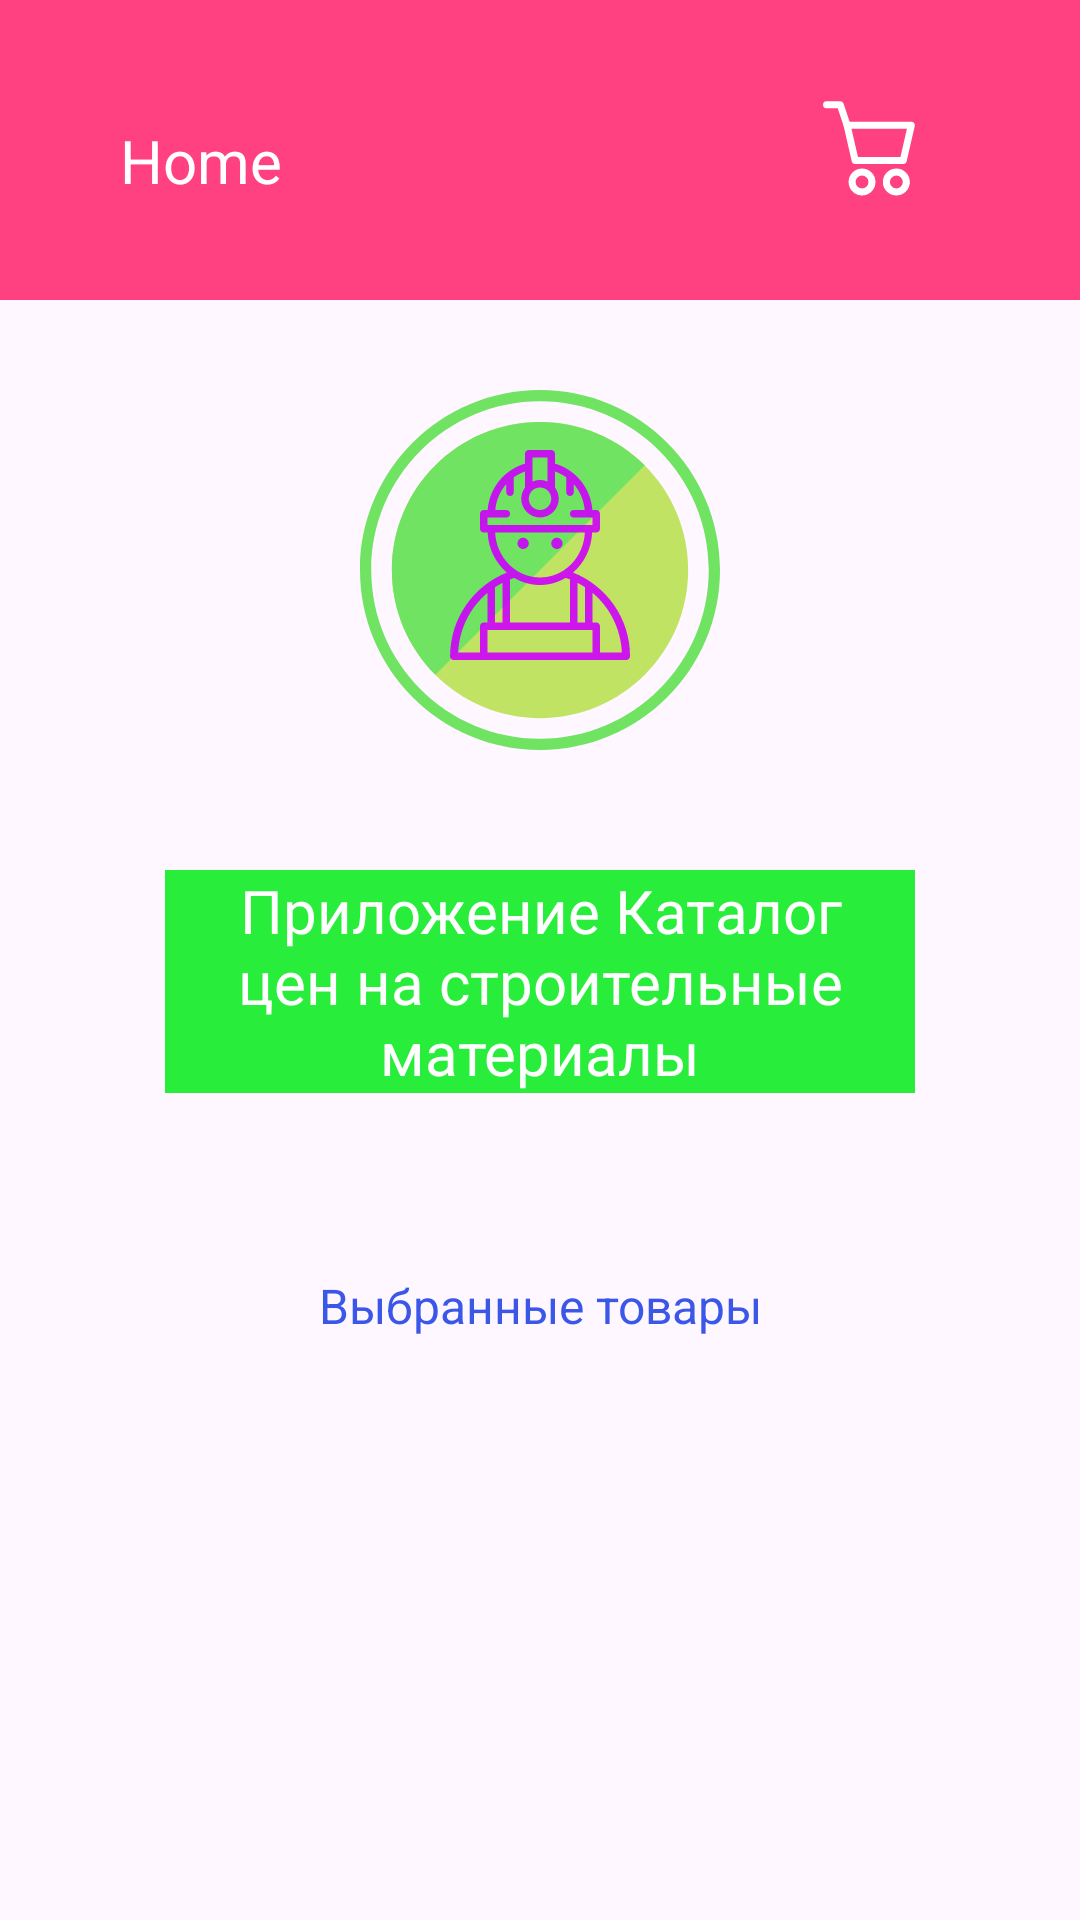

Named icons in this screenshot (1080×1920) and their bounding boxes, (x1, y1, x2, y2):
basket: (823, 101, 915, 196)
